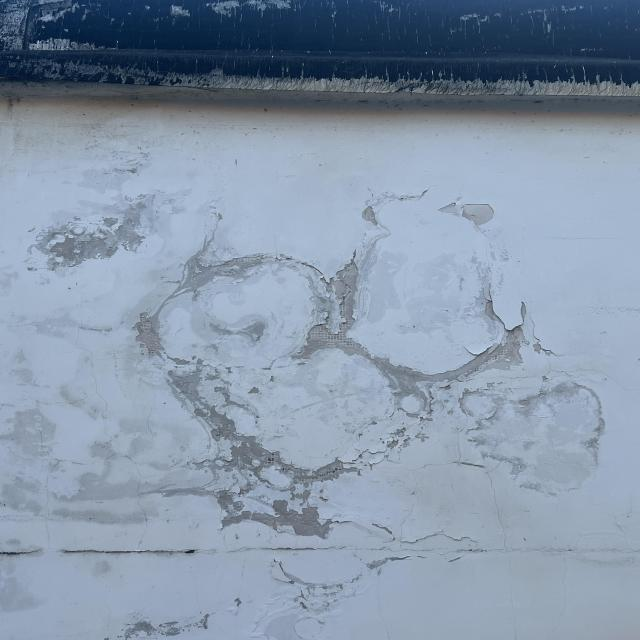crack: (1, 542, 358, 564), (395, 527, 500, 554)
damp: (0, 306, 203, 533), (446, 377, 622, 504)
hollowing: (246, 578, 371, 638)
spalling: (109, 194, 576, 543), (195, 274, 400, 462), (25, 190, 169, 276), (90, 602, 234, 640)
